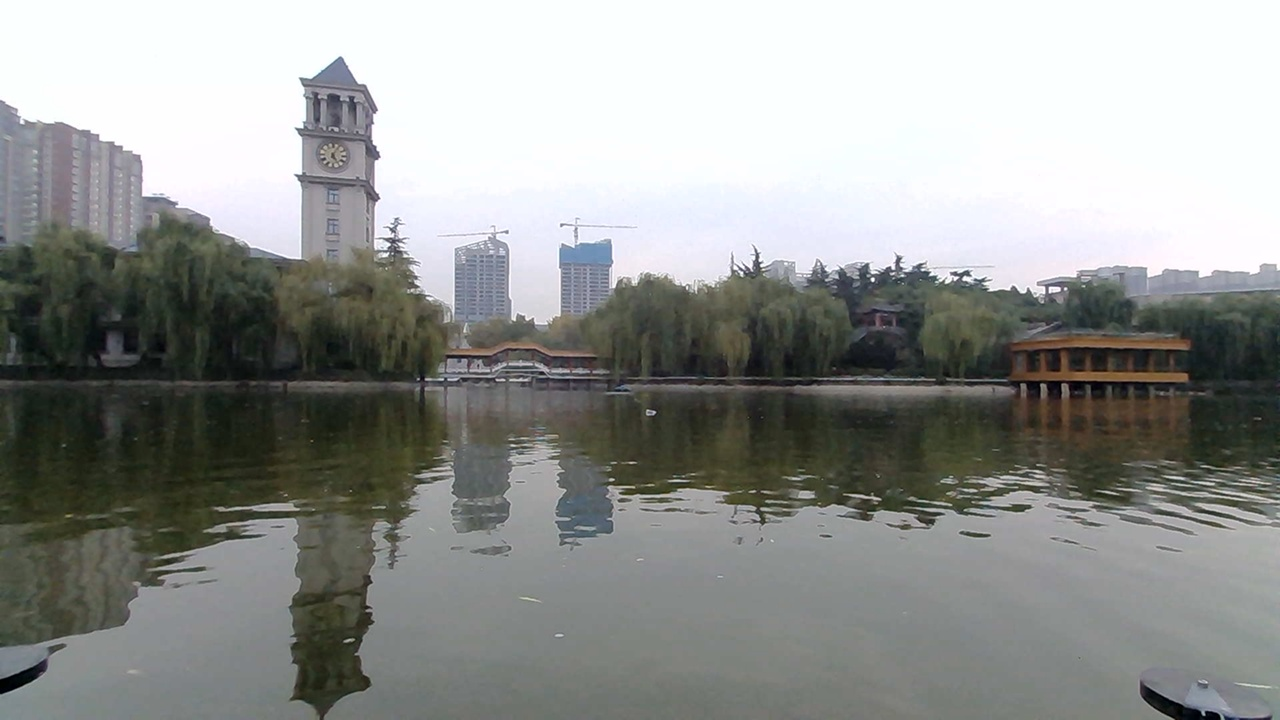bottle: (631, 400, 677, 424)
